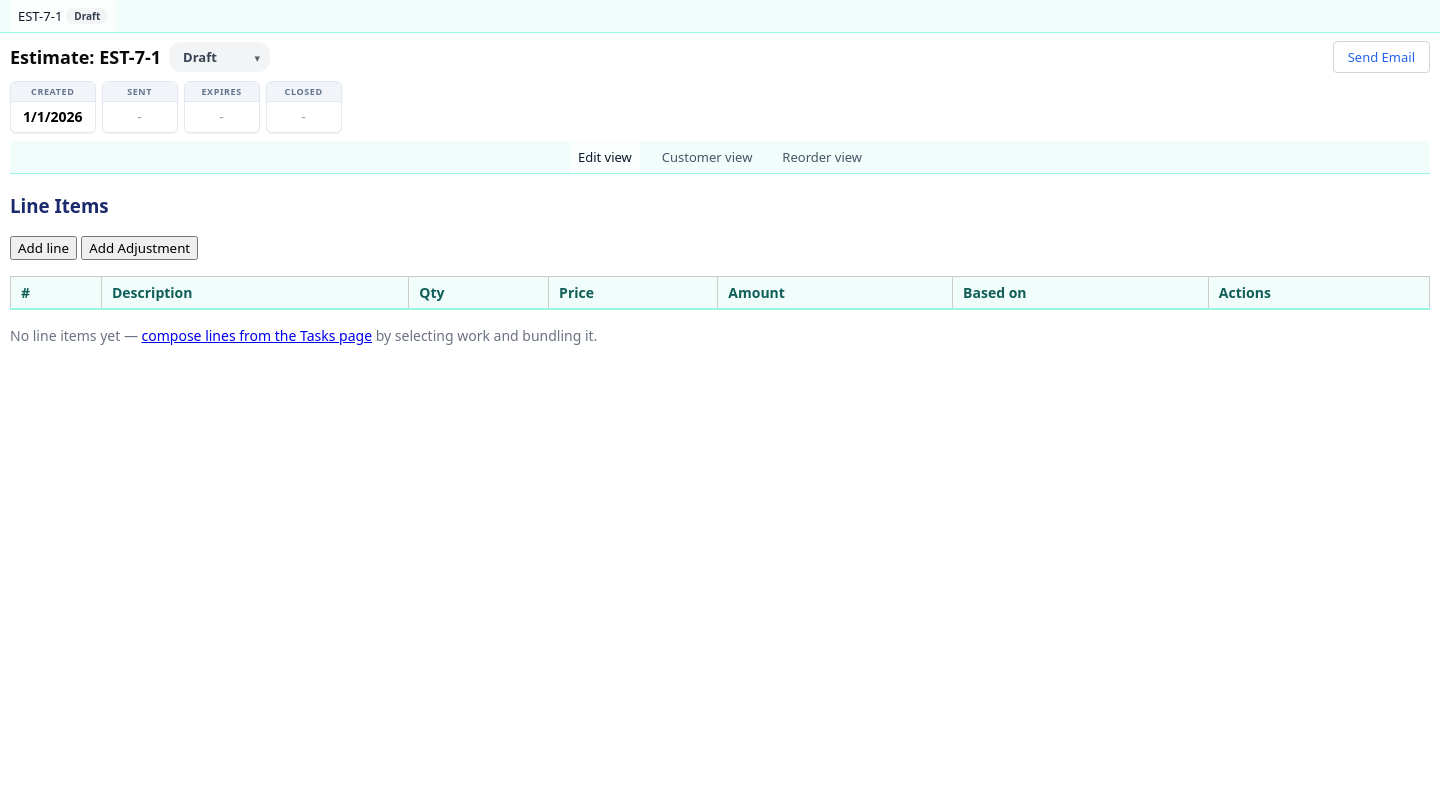
Test case: EstimatePanel adjustment affordances › opens AdjustmentModal when "Add adjustment" is clicked
Click the button "Add Adjustment": coordinates (140, 248) [81,236,198,260]
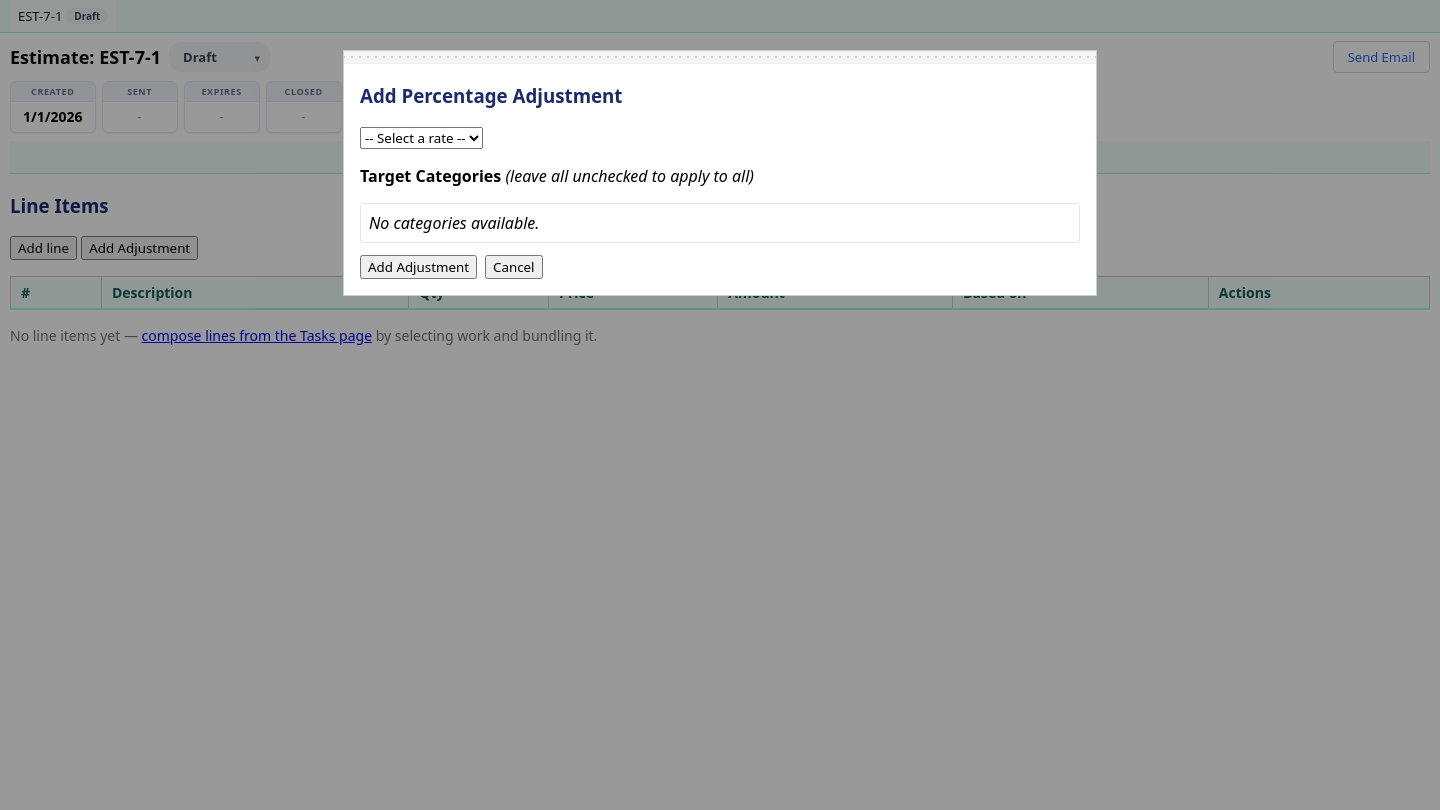
Check: the dialog is shown, box [343,50,1097,296]
